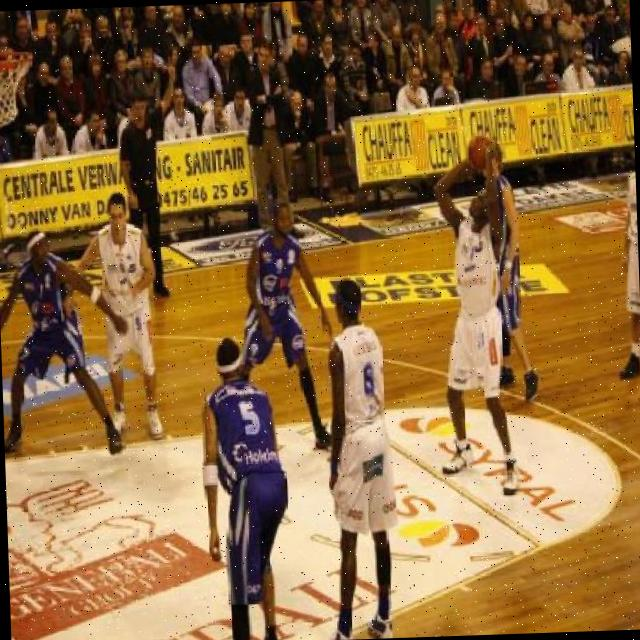ball: (466, 134, 492, 170)
